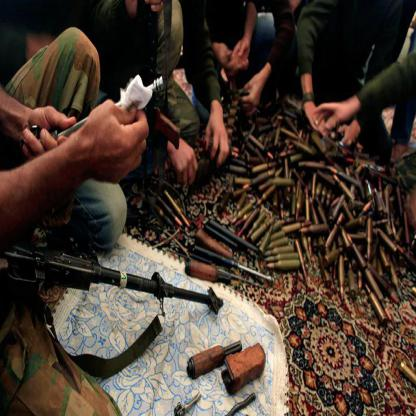rifle: (0, 239, 226, 318)
